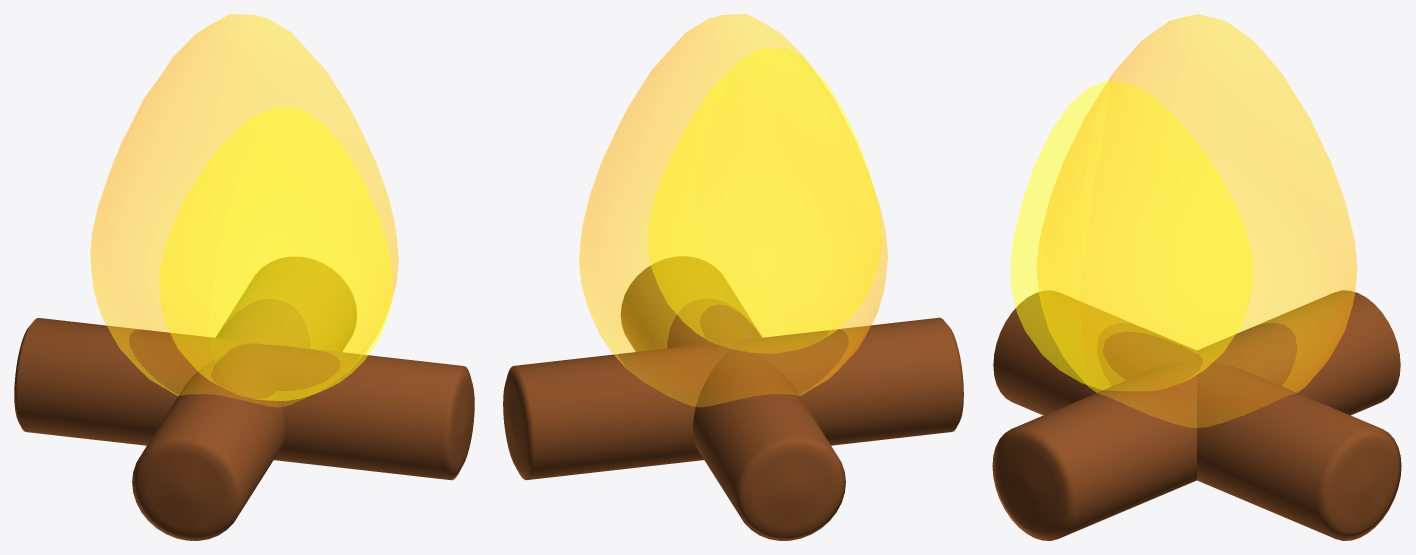
The model's file is campfire.gltf.
The picture shows the model from 3 angles, left to right: view 1: azimuth 30°, elevation 25°; view 2: azimuth 150°, elevation 25°; view 3: azimuth 270°, elevation 25°; orthographic projection. The views are drawn at different scales.
Size of what is drawn, in the model's own units: 2.54 by 3.1 by 2.55.
